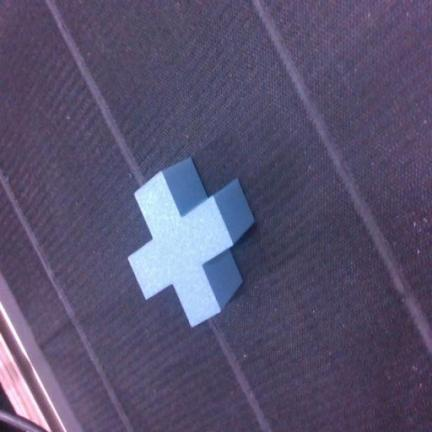cross: (129, 159, 253, 326)
